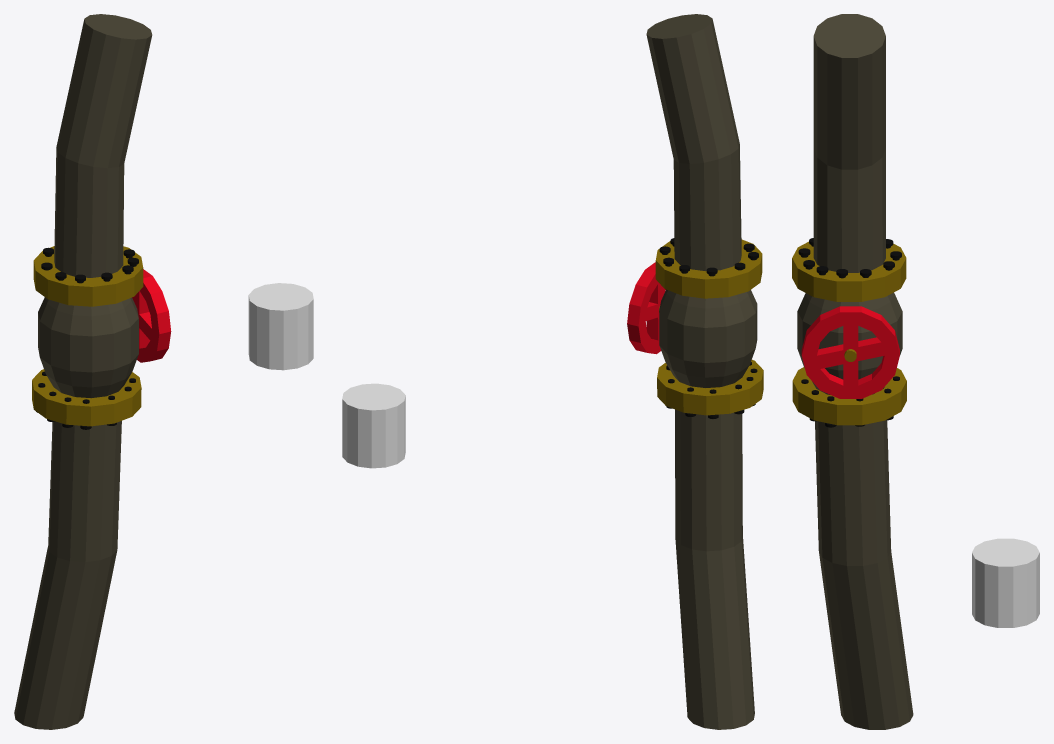
Rendered from pipe1.fbx.
The picture shows the model from 3 angles, left to right: view 1: azimuth 30°, elevation 25°; view 2: azimuth 150°, elevation 25°; view 3: azimuth 270°, elevation 25°; orthographic projection. The views are drawn at different scales.
Visible parts, largest first — view 1: Cylinder, Cylinder.026, Cylinder.007, Cylinder.001, Cylinder.025; view 2: Cylinder, Cylinder.026, Cylinder.007, Cylinder.001, Cylinder.025; view 3: Cylinder, Cylinder.025, Cylinder.026, Cylinder.007, Cylinder.001.
Boxes of the visible parts, <box> form: Cylinder: <box>14,14,152,729</box>; Cylinder.026: <box>248,283,313,370</box>; Cylinder.007: <box>32,369,141,426</box>; Cylinder.001: <box>33,246,143,306</box>; Cylinder.025: <box>132,269,171,362</box>; Cylinder: <box>646,14,757,729</box>; Cylinder.026: <box>342,383,405,468</box>; Cylinder.007: <box>657,359,763,415</box>; Cylinder.001: <box>655,239,762,298</box>; Cylinder.025: <box>627,262,665,354</box>; Cylinder: <box>797,14,913,729</box>; Cylinder.025: <box>801,306,899,398</box>; Cylinder.026: <box>972,538,1039,627</box>; Cylinder.007: <box>792,367,906,425</box>; Cylinder.001: <box>792,241,906,301</box>.
Size of the model in its own units: 1160 by 2179 by 684.
